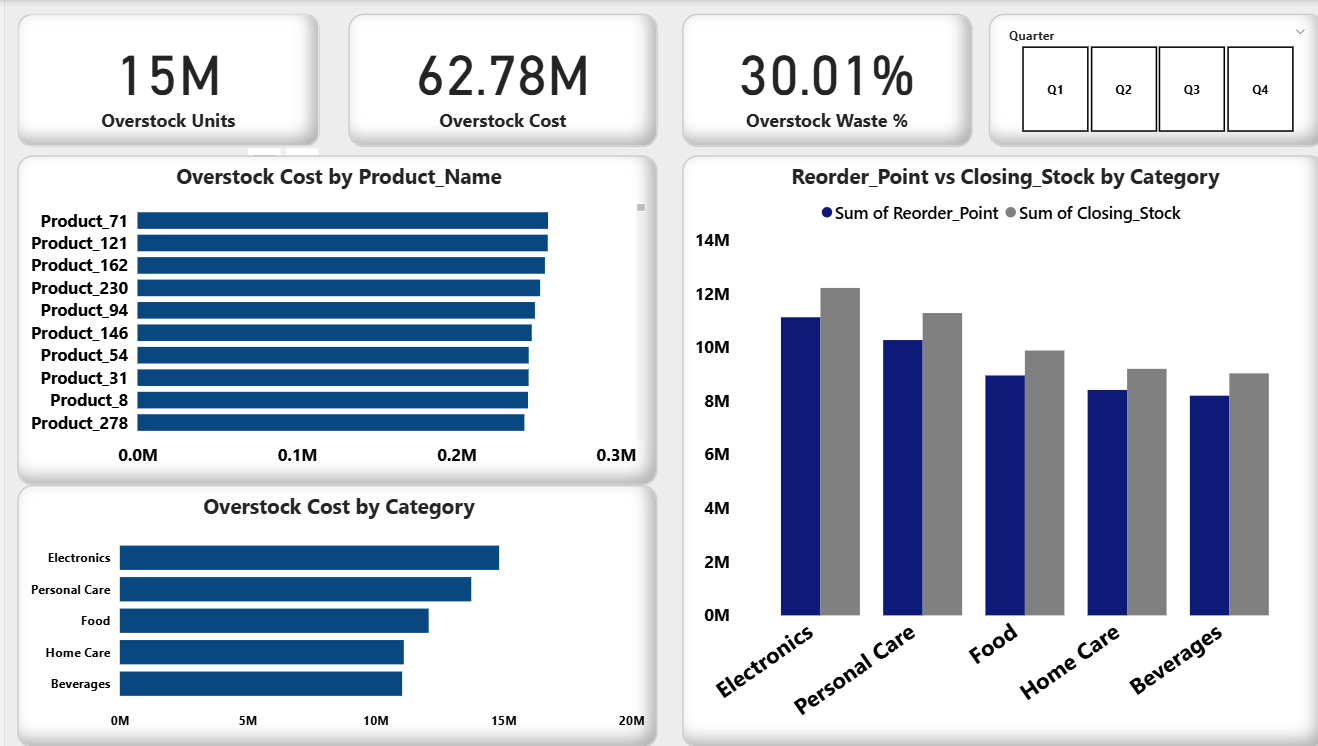

What the dashboard file says about the page in this screenshot:
{"tool":"powerbi","page":{"name":"Page 2","canvas":[1280,720],"ordinal":1},"visuals":[{"type":"card","fields":{"Values":["inventory_transactions.Overstock Units"]},"box":[11.8,13.1,291.2,128.6],"z":0},{"type":"card","fields":{"Values":["inventory_transactions.Overstock Cost"]},"box":[330.6,13.1,297.8,128.6],"z":1},{"type":"card","fields":{"Values":["calendar.Overstock Waste %"]},"box":[652,13.1,279.4,128.6],"z":2},{"type":"slicer","fields":{"Values":["calendar.Quarter"]},"box":[947.2,13.1,324,128.6],"z":3},{"type":"barChart","fields":{"Category":["products.Product_Name"],"Y":["inventory_transactions.Overstock Cost"]},"box":[11.8,149.6,616.6,317.5],"z":4},{"type":"clusteredBarChart","fields":{"Category":["products.Category"],"Y":["inventory_transactions.Overstock Cost"]},"box":[11.8,467,616.6,253.2],"z":5},{"type":"clusteredColumnChart","title":"Reorder_Point  vs Closing_Stock by Category","fields":{"Y":["Sum(inventory_transactions.Reorder_Point)","Sum(inventory_transactions.Closing_Stock)"],"Category":["products.Category"]},"box":[652,149.6,619.2,570.7],"z":6}]}

Visuals, with their boxes in screenshot pixels (x1, y1, x2, y2), scaled from the page's 1280x720 canvas onto the 1318x746 screenshot:
card - inventory_transactions.Overstock Units: <box>12,14,312,147</box>
card - inventory_transactions.Overstock Cost: <box>340,14,647,147</box>
card - calendar.Overstock Waste %: <box>671,14,959,147</box>
slicer - calendar.Quarter: <box>975,14,1309,147</box>
barChart - products.Product_Name x inventory_transactions.Overstock Cost: <box>12,155,647,484</box>
clusteredBarChart - products.Category x inventory_transactions.Overstock Cost: <box>12,484,647,745</box>
"Reorder_Point  vs Closing_Stock by Category" clusteredColumnChart: <box>671,155,1309,745</box>
